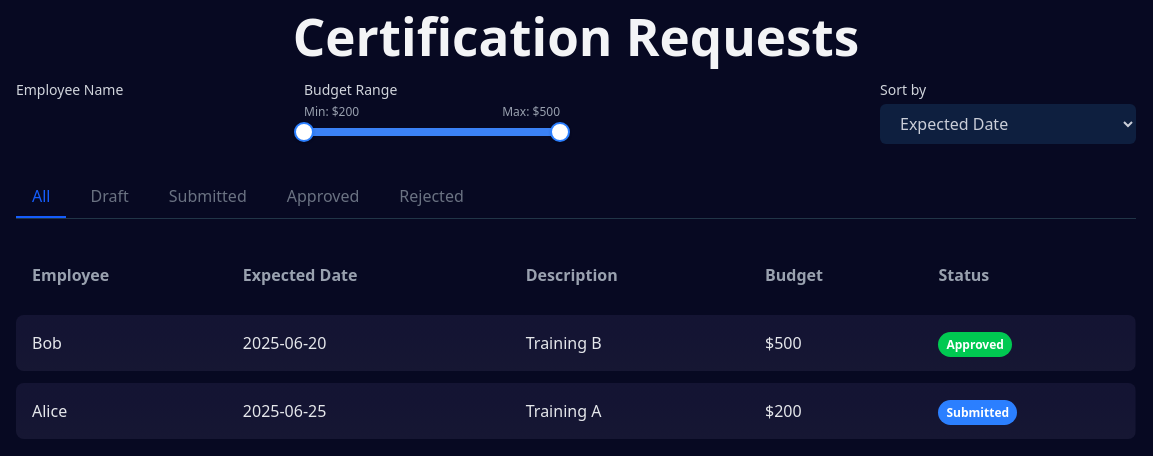
Test: SupervisorPage › filters by status tab
The image size is (1153, 456).
Click the button with aria-label "Status tab approved" at {"x": 323, "y": 201}, box [271,184,375,218]
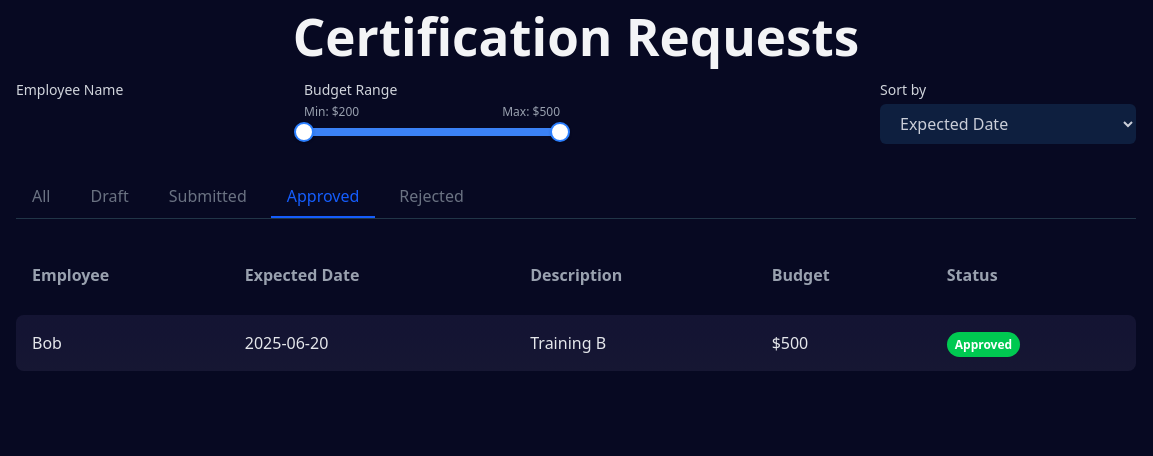
Expected: the text "Bob" is shown, [16,315,229,371]
Expected: the text "Alice" is gone
